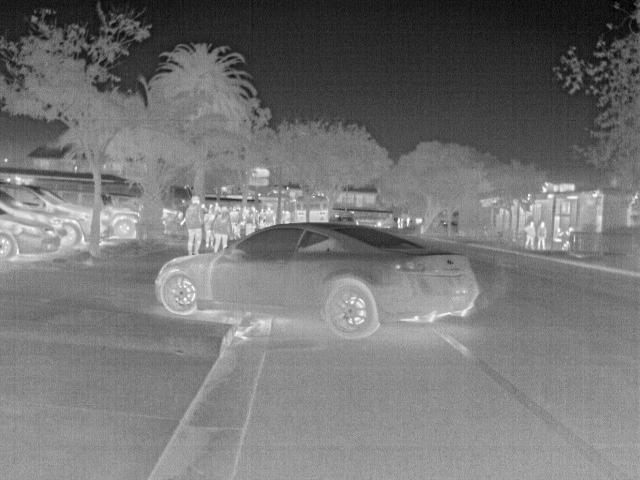car: (152, 222, 482, 340), (2, 184, 95, 248), (5, 209, 61, 259), (102, 192, 142, 240), (163, 206, 186, 232)
person: (180, 196, 206, 256), (211, 206, 231, 253), (243, 204, 261, 236), (523, 220, 540, 250), (536, 219, 550, 253), (260, 204, 276, 232), (562, 225, 576, 251), (551, 227, 565, 243), (281, 208, 293, 224), (405, 216, 412, 228), (396, 214, 402, 228), (400, 216, 406, 228)
